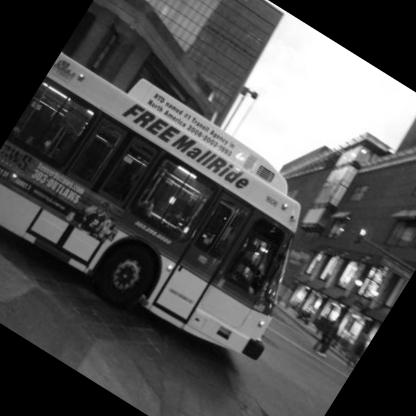bus: (1, 33, 356, 394)
